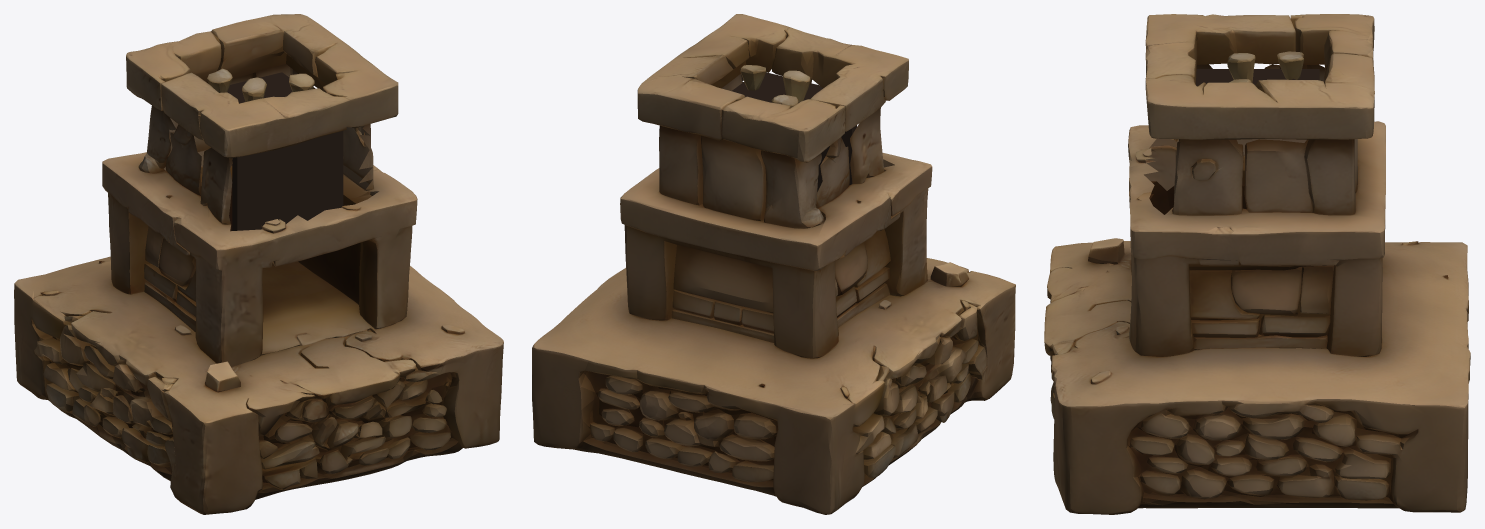
File: furnace.glb
3 renders of one model, left to right at view 1: azimuth 30°, elevation 25°; view 2: azimuth 150°, elevation 25°; view 3: azimuth 270°, elevation 25°, orthographic. The views are drawn at different scales.
Parts seen in each view (by area): view 1: Native Clay Stone Bloomery Mesh 1, Upper chamber refractory back, Upper chamber cold cap; view 2: Native Clay Stone Bloomery Mesh 1, Upper chamber cold cap; view 3: Native Clay Stone Bloomery Mesh 1, Upper chamber cold cap.
Boxes of the visible parts, box(x1,y1,x2,y2) form: Native Clay Stone Bloomery Mesh 1: box(14, 14, 503, 514); Upper chamber refractory back: box(232, 131, 343, 230); Upper chamber cold cap: box(227, 72, 292, 103); Native Clay Stone Bloomery Mesh 1: box(532, 14, 1015, 514); Upper chamber cold cap: box(731, 72, 823, 102); Native Clay Stone Bloomery Mesh 1: box(1044, 14, 1470, 514); Upper chamber cold cap: box(1196, 69, 1319, 85).
Bounding box in the file's own units: 0.909 × 0.9552 × 0.96.
2 materials, 1 textured.
